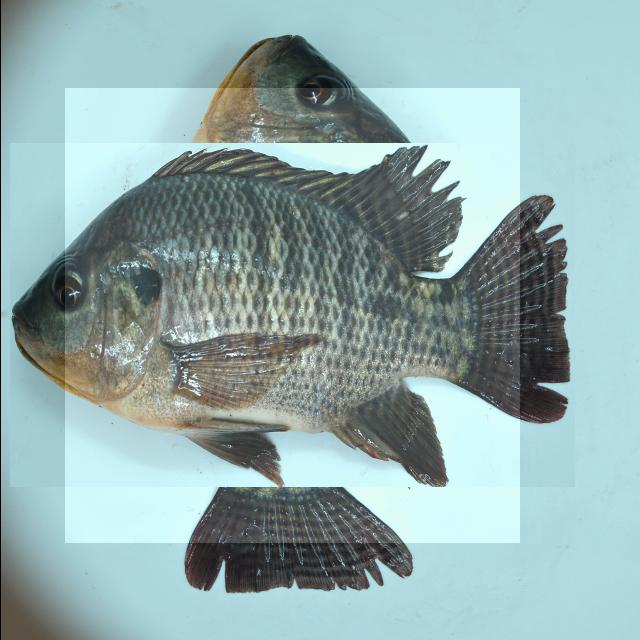Healthy Fish: (64, 88, 519, 543)
